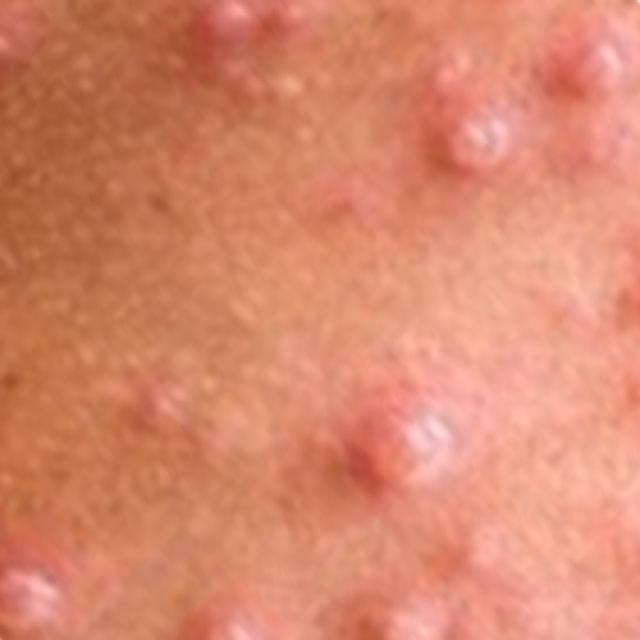acne: (282, 535, 564, 638), (319, 360, 486, 506), (77, 350, 256, 470), (403, 42, 529, 188), (173, 0, 316, 92), (0, 536, 98, 628), (540, 21, 638, 111), (154, 565, 272, 638)
